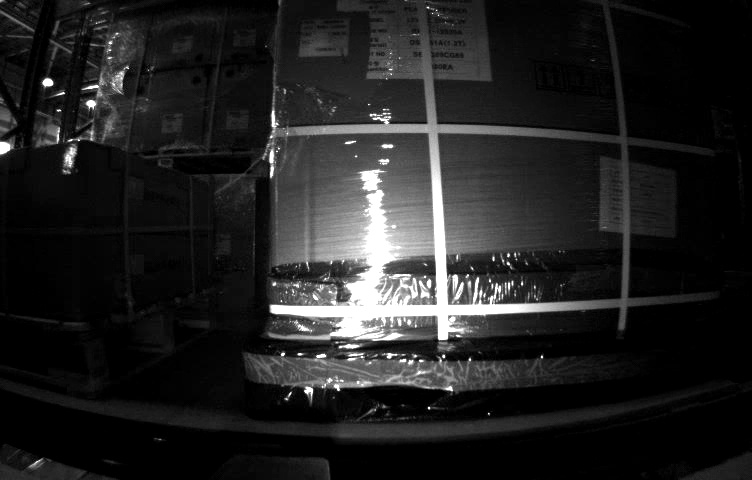True Barcode: (302, 24, 348, 62)
